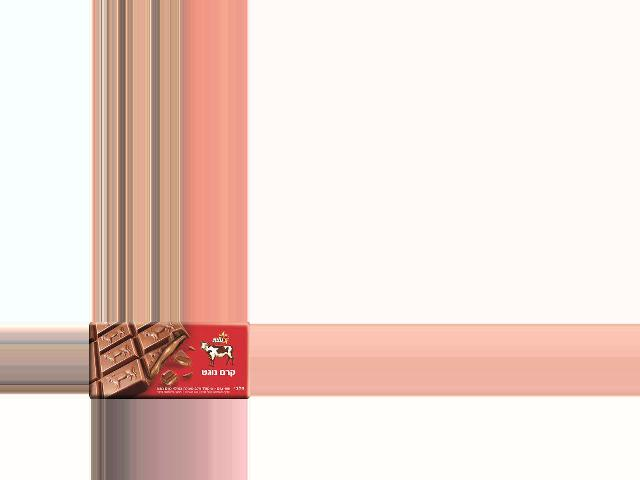chocolate: (91, 322, 250, 397)
